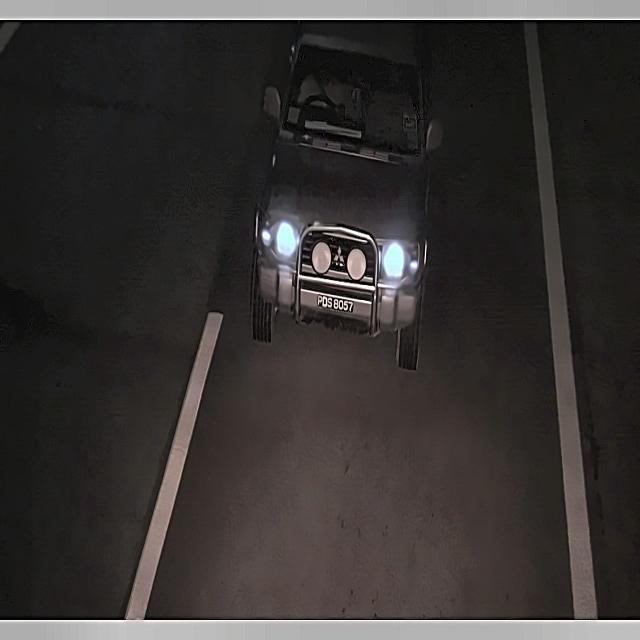car: (310, 288, 357, 322)
